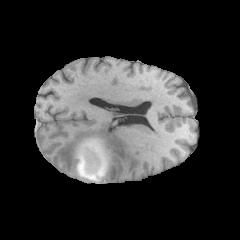glioma: (58, 122, 139, 181)
